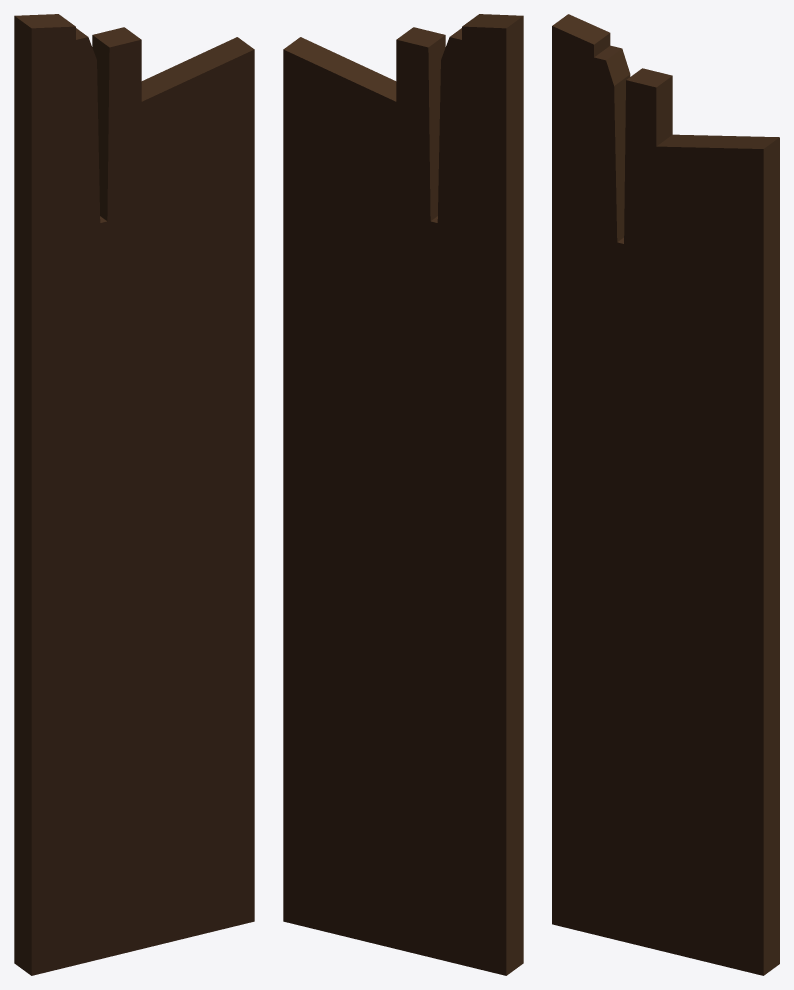
File: Cave_Lair_Wooden_Timber_Plank_01.fbx
3 views of the same model, side by side, from view 1: azimuth 30°, elevation 25°; view 2: azimuth 150°, elevation 25°; view 3: azimuth 330°, elevation 25° (orthographic). The views are drawn at different scales.
Parts seen in each view (by area): view 1: Cave_Lair_Wooden_Timber_Plank_01; view 2: Cave_Lair_Wooden_Timber_Plank_01; view 3: Cave_Lair_Wooden_Timber_Plank_01.
Boxes of the visible parts, x1,y1,x2,y2 form: Cave_Lair_Wooden_Timber_Plank_01: (14,14,254,975); Cave_Lair_Wooden_Timber_Plank_01: (283,14,523,975); Cave_Lair_Wooden_Timber_Plank_01: (552,14,779,975).
Size of the model in its own units: 0.351 by 1.43 by 0.0468.
